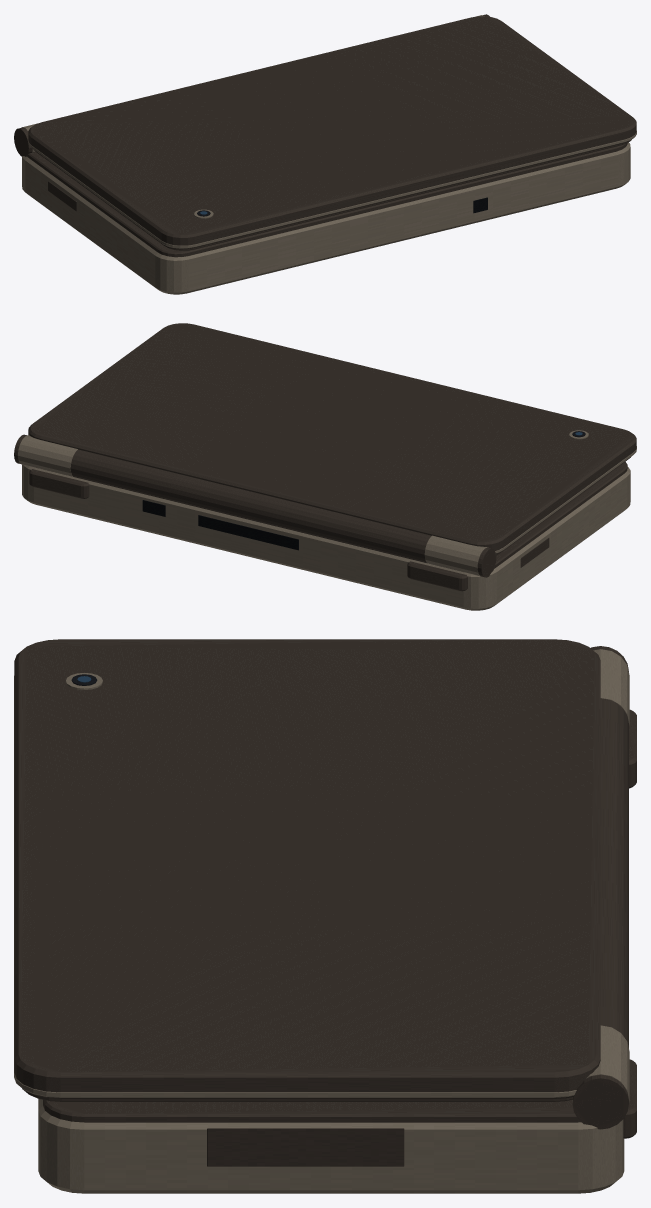
The model's file is dsi-xl-bronze.glb.
3 renders of one model, top to bottom at view 1: azimuth 30°, elevation 25°; view 2: azimuth 150°, elevation 25°; view 3: azimuth 270°, elevation 25°, orthographic. The views are drawn at different scales.
Visible parts, largest first — view 1: Display_hinge__finish-palette, Device__finish-palette; view 2: Display_hinge__finish-palette, Device__finish-palette; view 3: Display_hinge__finish-palette, Device__finish-palette.
Boxes of the visible parts, x1,y1,x2,y2 form: Display_hinge__finish-palette: (28, 16, 636, 250); Device__finish-palette: (14, 14, 630, 294); Display_hinge__finish-palette: (28, 323, 636, 555); Device__finish-palette: (14, 434, 630, 610); Display_hinge__finish-palette: (14, 639, 600, 1101); Device__finish-palette: (38, 646, 636, 1193).
Size of the model in its own units: 16.14 by 2.17 by 9.71.
Materials: 5 (5 with a texture image).
